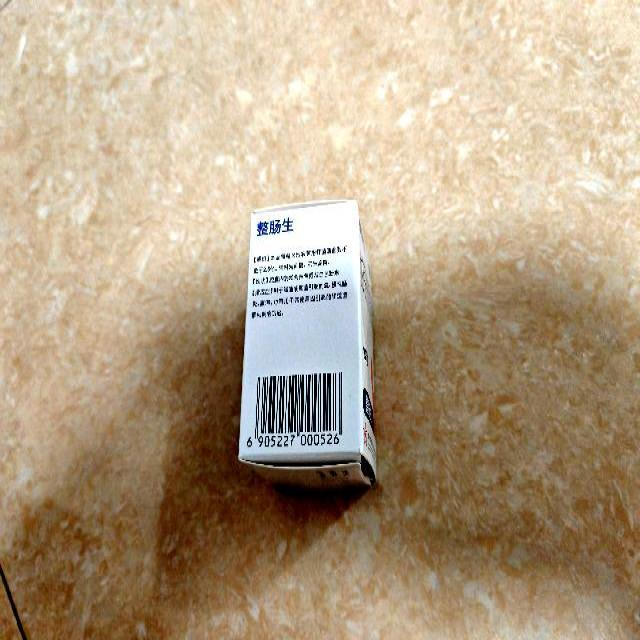box: (238, 198, 379, 493)
